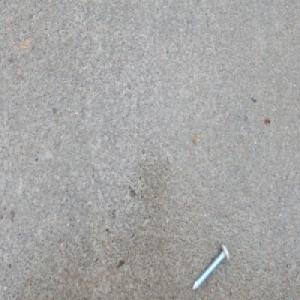Nail: (192, 242, 230, 293)
